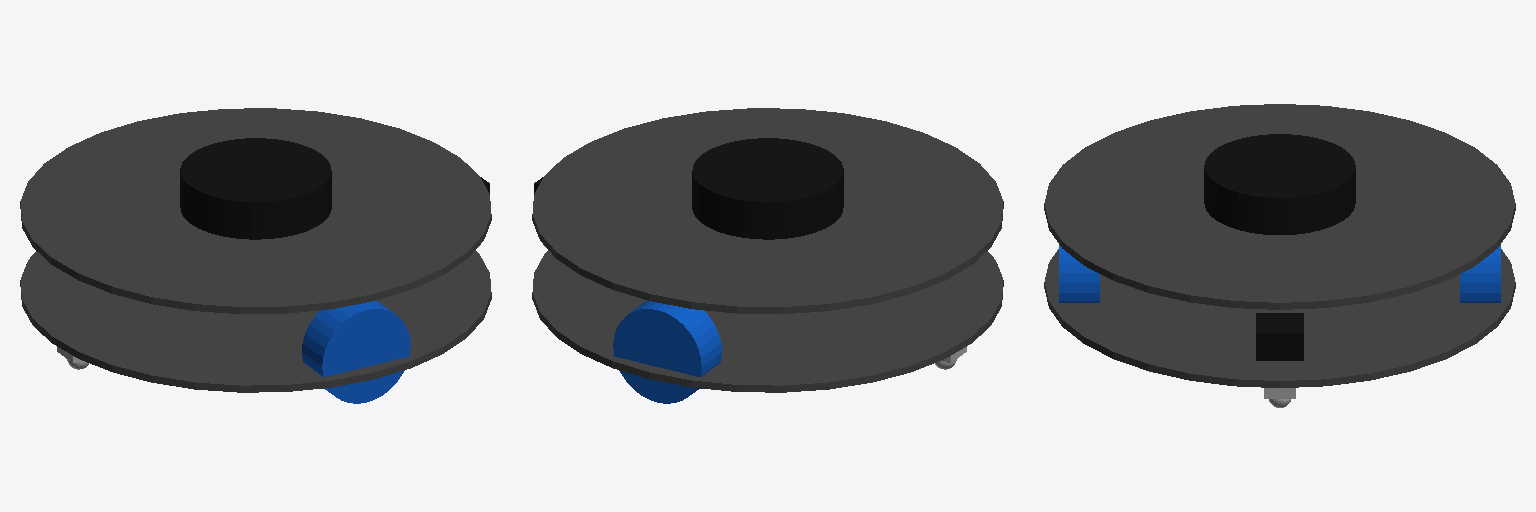
robot.urdf — agv_robot:
<?xml version="1.0" ?>
<!-- =================================================================================== -->
<!-- |    This document was autogenerated by xacro from /home/claude/agv_robot/urdf/agv_robot.urdf.xacro | -->
<!-- |    EDITING THIS FILE BY HAND IS NOT RECOMMENDED                                 | -->
<!-- =================================================================================== -->
<robot name="agv_robot">
  <!-- ============================================================
       AGV Robot URDF
       구조: 차동구동 (Differential Drive)
       - 원형 2단 플랫폼 (lower/upper plate, φ300mm)
       - 좌우 구동 바퀴 × 2 (φ65mm, 폭 26mm, track 255mm)
       - 볼 캐스터 × 2 (φ15mm, 전/후)
       - LiDAR: LD14 (상판 상단 장착)
       - USB Camera (전면 하판 장착)
  ============================================================ -->
  <!-- ======================== PROPERTIES ======================== -->
  <!-- 바퀴 중심 간 거리 -->
  <!-- 0.0225 + 0.050 + 0.005 -->
  <!-- ground 기준 5.5cm -->
  <!-- ======================== BASE LINK ======================== -->
  <!-- base_link: 로봇 기준점 (지면 위 바퀴 중심 높이) -->
  <link name="base_link">
    <visual>
      <geometry>
        <box size="0.001 0.001 0.001"/>
      </geometry>
    </visual>
  </link>
  <!-- base_footprint: 지면 투영점 (Nav2 표준) -->
  <link name="base_footprint"/>
  <joint name="base_footprint_joint" type="fixed">
    <parent link="base_footprint"/>
    <child link="base_link"/>
    <origin rpy="0 0 0" xyz="0 0 0.0325"/>
  </joint>
  <!-- ====================== LOWER PLATE ======================= -->
  <link name="lower_plate">
    <visual>
      <geometry>
        <cylinder length="0.005" radius="0.15"/>
      </geometry>
      <material name="dark_gray">
        <color rgba="0.3 0.3 0.3 1.0"/>
      </material>
    </visual>
    <collision>
      <geometry>
        <cylinder length="0.005" radius="0.15"/>
      </geometry>
    </collision>
    <inertial>
      <mass value="0.8"/>
      <inertia ixx="0.004501666666666666" ixy="0" ixz="0" iyy="0.004501666666666666" iyz="0" izz="0.009"/>
    </inertial>
  </link>
  <joint name="lower_plate_joint" type="fixed">
    <parent link="base_link"/>
    <child link="lower_plate"/>
    <!-- base_link 기준: 하판 중심 z = lower_plate_z - wheel_radius -->
    <origin rpy="0 0 0" xyz="0 0 -0.010000000000000002"/>
  </joint>
  <!-- ====================== UPPER PLATE ======================= -->
  <link name="upper_plate">
    <visual>
      <geometry>
        <cylinder length="0.005" radius="0.15"/>
      </geometry>
      <material name="dark_gray"/>
    </visual>
    <collision>
      <geometry>
        <cylinder length="0.005" radius="0.15"/>
      </geometry>
    </collision>
    <inertial>
      <mass value="0.6"/>
      <inertia ixx="0.003376249999999999" ixy="0" ixz="0" iyy="0.003376249999999999" iyz="0" izz="0.00675"/>
    </inertial>
  </link>
  <joint name="upper_plate_joint" type="fixed">
    <parent link="base_link"/>
    <child link="upper_plate"/>
    <origin rpy="0 0 0" xyz="0 0 0.045"/>
  </joint>
  <link name="left_wheel">
    <visual>
      <geometry>
        <cylinder length="0.026" radius="0.0325"/>
      </geometry>
      <material name="blue">
        <color rgba="0.1 0.4 0.8 1.0"/>
      </material>
    </visual>
    <collision>
      <geometry>
        <cylinder length="0.026" radius="0.0325"/>
      </geometry>
    </collision>
    <inertial>
      <mass value="0.15"/>
      <inertia ixx="4.8059375e-05" ixy="0" ixz="0" iyy="4.8059375e-05" iyz="0" izz="7.921875e-05"/>
    </inertial>
  </link>
  <joint name="left_wheel_joint" type="continuous">
    <parent link="base_link"/>
    <child link="left_wheel"/>
    <!-- 바퀴 회전축 = Y축, 좌우 배치 -->
    <origin rpy="1.5707963267948966 0 0" xyz="0 0.1275 0"/>
    <axis xyz="0 0 1"/>
    <dynamics damping="0.1" friction="0.1"/>
  </joint>
  <link name="right_wheel">
    <visual>
      <geometry>
        <cylinder length="0.026" radius="0.0325"/>
      </geometry>
      <material name="blue">
        <color rgba="0.1 0.4 0.8 1.0"/>
      </material>
    </visual>
    <collision>
      <geometry>
        <cylinder length="0.026" radius="0.0325"/>
      </geometry>
    </collision>
    <inertial>
      <mass value="0.15"/>
      <inertia ixx="4.8059375e-05" ixy="0" ixz="0" iyy="4.8059375e-05" iyz="0" izz="7.921875e-05"/>
    </inertial>
  </link>
  <joint name="right_wheel_joint" type="continuous">
    <parent link="base_link"/>
    <child link="right_wheel"/>
    <!-- 바퀴 회전축 = Y축, 좌우 배치 -->
    <origin rpy="1.5707963267948966 0 0" xyz="0 -0.1275 0"/>
    <axis xyz="0 0 1"/>
    <dynamics damping="0.1" friction="0.1"/>
  </joint>
  <!-- 캐스터 하우징 (dummy) -->
  <link name="front_caster_housing">
    <visual>
      <geometry>
        <box size="0.02 0.02 0.01"/>
      </geometry>
      <material name="light_gray">
        <color rgba="0.7 0.7 0.7 1.0"/>
      </material>
    </visual>
    <inertial>
      <mass value="0.02"/>
      <inertia ixx="8.333333333333334e-07" ixy="0" ixz="0" iyy="8.333333333333334e-07" iyz="0" izz="1.3333333333333336e-06"/>
    </inertial>
  </link>
  <joint name="front_caster_housing_joint" type="fixed">
    <parent link="base_link"/>
    <child link="front_caster_housing"/>
    <origin rpy="0 0 0" xyz="0.13 0 -0.02"/>
  </joint>
  <!-- 볼 -->
  <link name="front_caster_ball">
    <visual>
      <geometry>
        <sphere radius="0.0075"/>
      </geometry>
      <material name="light_gray"/>
    </visual>
    <collision>
      <geometry>
        <sphere radius="0.0075"/>
      </geometry>
    </collision>
    <inertial>
      <mass value="0.01"/>
      <inertia ixx="2.2499999999999996e-07" ixy="0" ixz="0" iyy="2.2499999999999996e-07" iyz="0" izz="2.2499999999999996e-07"/>
    </inertial>
  </link>
  <joint name="front_caster_ball_joint" type="fixed">
    <parent link="front_caster_housing"/>
    <child link="front_caster_ball"/>
    <origin rpy="0 0 0" xyz="0 0 -0.0075"/>
  </joint>
  <!-- 캐스터 하우징 (dummy) -->
  <link name="rear_caster_housing">
    <visual>
      <geometry>
        <box size="0.02 0.02 0.01"/>
      </geometry>
      <material name="light_gray">
        <color rgba="0.7 0.7 0.7 1.0"/>
      </material>
    </visual>
    <inertial>
      <mass value="0.02"/>
      <inertia ixx="8.333333333333334e-07" ixy="0" ixz="0" iyy="8.333333333333334e-07" iyz="0" izz="1.3333333333333336e-06"/>
    </inertial>
  </link>
  <joint name="rear_caster_housing_joint" type="fixed">
    <parent link="base_link"/>
    <child link="rear_caster_housing"/>
    <origin rpy="0 0 0" xyz="-0.13 0 -0.02"/>
  </joint>
  <!-- 볼 -->
  <link name="rear_caster_ball">
    <visual>
      <geometry>
        <sphere radius="0.0075"/>
      </geometry>
      <material name="light_gray"/>
    </visual>
    <collision>
      <geometry>
        <sphere radius="0.0075"/>
      </geometry>
    </collision>
    <inertial>
      <mass value="0.01"/>
      <inertia ixx="2.2499999999999996e-07" ixy="0" ixz="0" iyy="2.2499999999999996e-07" iyz="0" izz="2.2499999999999996e-07"/>
    </inertial>
  </link>
  <joint name="rear_caster_ball_joint" type="fixed">
    <parent link="rear_caster_housing"/>
    <child link="rear_caster_ball"/>
    <origin rpy="0 0 0" xyz="0 0 -0.0075"/>
  </joint>
  <!-- ========================= LIDAR ========================== -->
  <!-- LD14: 상판 상단 기준으로 장착, 중앙 -->
  <link name="lidar_link">
    <visual>
      <geometry>
        <cylinder length="0.0263" radius="0.0482"/>
      </geometry>
      <material name="black">
        <color rgba="0.1 0.1 0.1 1.0"/>
      </material>
    </visual>
    <collision>
      <geometry>
        <cylinder length="0.0263" radius="0.0482"/>
      </geometry>
    </collision>
    <inertial>
      <mass value="0.17"/>
      <inertia ixx="0.00010853664166666668" ixy="0" ixz="0" iyy="0.00010853664166666668" iyz="0" izz="0.0001974754"/>
    </inertial>
  </link>
  <joint name="lidar_joint" type="fixed">
    <parent link="upper_plate"/>
    <child link="lidar_link"/>
    <!-- 상판 중심 → 상판 상단 = platform_thickness/2 → LiDAR 중심 = + lidar_height/2 -->
    <origin rpy="0 0 0" xyz="0 0 0.01565"/>
  </joint>
  <!-- ======================== CAMERA ========================== -->
  <link name="camera_link">
    <visual>
      <geometry>
        <box size="0.03 0.03 0.02"/>
      </geometry>
      <material name="black"/>
    </visual>
    <collision>
      <geometry>
        <box size="0.03 0.03 0.02"/>
      </geometry>
    </collision>
    <inertial>
      <mass value="0.05"/>
      <inertia ixx="5.416666666666666e-06" ixy="0" ixz="0" iyy="5.416666666666666e-06" iyz="0" izz="7.5e-06"/>
    </inertial>
  </link>
  <joint name="camera_joint" type="fixed">
    <parent link="base_link"/>
    <child link="camera_link"/>
    <origin rpy="0 0 0" xyz="0.148 0 0.0225"/>
  </joint>
  <!-- camera_optical_frame: ROS 카메라 좌표계 관례 (Z-forward) -->
  <link name="camera_optical_frame"/>
  <joint name="camera_optical_joint" type="fixed">
    <parent link="camera_link"/>
    <child link="camera_optical_frame"/>
    <origin rpy="-1.5707963267948966 0 -1.5707963267948966" xyz="0 0 0"/>
  </joint>
  <!-- ===================== GAZEBO PLUGINS ===================== -->
  <!-- 차동구동 플러그인 (ROS2 / Gazebo Classic용) -->
  <gazebo>
    <plugin filename="libgazebo_ros_diff_drive.so" name="differential_drive_controller">
      <ros>
        <namespace>/</namespace>
      </ros>
      <left_joint>left_wheel_joint</left_joint>
      <right_joint>right_wheel_joint</right_joint>
      <wheel_separation>0.255</wheel_separation>
      <wheel_diameter>0.065</wheel_diameter>
      <max_wheel_torque>5.0</max_wheel_torque>
      <max_wheel_acceleration>1.0</max_wheel_acceleration>
      <command_topic>cmd_vel</command_topic>
      <publish_odom>true</publish_odom>
      <publish_odom_tf>true</publish_odom_tf>
      <publish_wheel_tf>false</publish_wheel_tf>
      <odometry_topic>odom</odometry_topic>
      <odometry_frame>odom</odometry_frame>
      <robot_base_frame>base_footprint</robot_base_frame>
    </plugin>
  </gazebo>
  <!-- LiDAR 플러그인 (2D LaserScan) -->
  <gazebo reference="lidar_link">
    <sensor name="lidar_sensor" type="ray">
      <pose>0 0 0 0 0 0</pose>
      <visualize>false</visualize>
      <update_rate>10</update_rate>
      <ray>
        <scan>
          <horizontal>
            <samples>360</samples>
            <resolution>1</resolution>
            <min_angle>-3.14159</min_angle>
            <max_angle>3.14159</max_angle>
          </horizontal>
        </scan>
        <range>
          <min>0.12</min>
          <max>8.0</max>
          <resolution>0.01</resolution>
        </range>
        <noise>
          <type>gaussian</type>
          <mean>0.0</mean>
          <stddev>0.01</stddev>
        </noise>
      </ray>
      <plugin filename="libgazebo_ros_ray_sensor.so" name="lidar_plugin">
        <ros>
          <remapping>~/out:=scan</remapping>
        </ros>
        <output_type>sensor_msgs/LaserScan</output_type>
        <frame_name>lidar_link</frame_name>
      </plugin>
    </sensor>
  </gazebo>
  <!-- 카메라 플러그인 -->
  <gazebo reference="camera_link">
    <sensor name="camera_sensor" type="camera">
      <update_rate>30.0</update_rate>
      <camera name="camera">
        <horizontal_fov>1.2217</horizontal_fov>
        <!-- 70° HBV-W202012HD V33 -->
        <image>
          <width>1280</width>
          <height>800</height>
          <format>R8G8B8</format>
        </image>
        <clip>
          <near>0.02</near>
          <far>300</far>
        </clip>
      </camera>
      <plugin filename="libgazebo_ros_camera.so" name="camera_plugin">
        <frame_name>camera_optical_frame</frame_name>
      </plugin>
    </sensor>
  </gazebo>
  <!-- 볼캐스터 마찰 제거 -->
  <gazebo reference="front_caster_ball">
    <mu1>0.0</mu1>
    <mu2>0.0</mu2>
  </gazebo>
  <gazebo reference="rear_caster_ball">
    <mu1>0.0</mu1>
    <mu2>0.0</mu2>
  </gazebo>
  <!-- 바퀴 마찰 설정 -->
  <gazebo reference="left_wheel">
    <mu1>1.0</mu1>
    <mu2>0.5</mu2>
  </gazebo>
  <gazebo reference="right_wheel">
    <mu1>1.0</mu1>
    <mu2>0.5</mu2>
  </gazebo>
</robot>

--- Facts derived from the render (not from the file) ---
Views: 3 orthographic renders of the robot side by side, from view 1: azimuth 30°, elevation 25°; view 2: azimuth 150°, elevation 25°; view 3: azimuth 270°, elevation 25°.
Robot: agv_robot — 13 links, 12 joints (2 continuous, 10 fixed); root link base_footprint; default pose: all joints at 0.
Visible links, largest first — view 1: upper_plate, lower_plate, lidar_link, right_wheel; view 2: upper_plate, lower_plate, lidar_link, left_wheel; view 3: upper_plate, lower_plate, lidar_link, camera_link, left_wheel, right_wheel.
Boxes of the visible links, x1,y1,x2,y2 form: upper_plate: [20, 108, 491, 313]; lower_plate: [20, 250, 491, 392]; lidar_link: [180, 138, 331, 239]; right_wheel: [302, 300, 410, 403]; upper_plate: [532, 108, 1003, 313]; lower_plate: [532, 250, 1003, 392]; lidar_link: [692, 138, 843, 239]; left_wheel: [613, 300, 721, 403]; upper_plate: [1044, 104, 1515, 309]; lower_plate: [1044, 249, 1515, 387]; lidar_link: [1204, 134, 1355, 234]; camera_link: [1256, 313, 1303, 360]; left_wheel: [1460, 245, 1500, 302]; right_wheel: [1059, 245, 1099, 302].
Size in the robot's own frame: 0.313 by 0.3 by 0.1088 metres.
Geometry: primitives only (box / cylinder / sphere), no mesh files.
